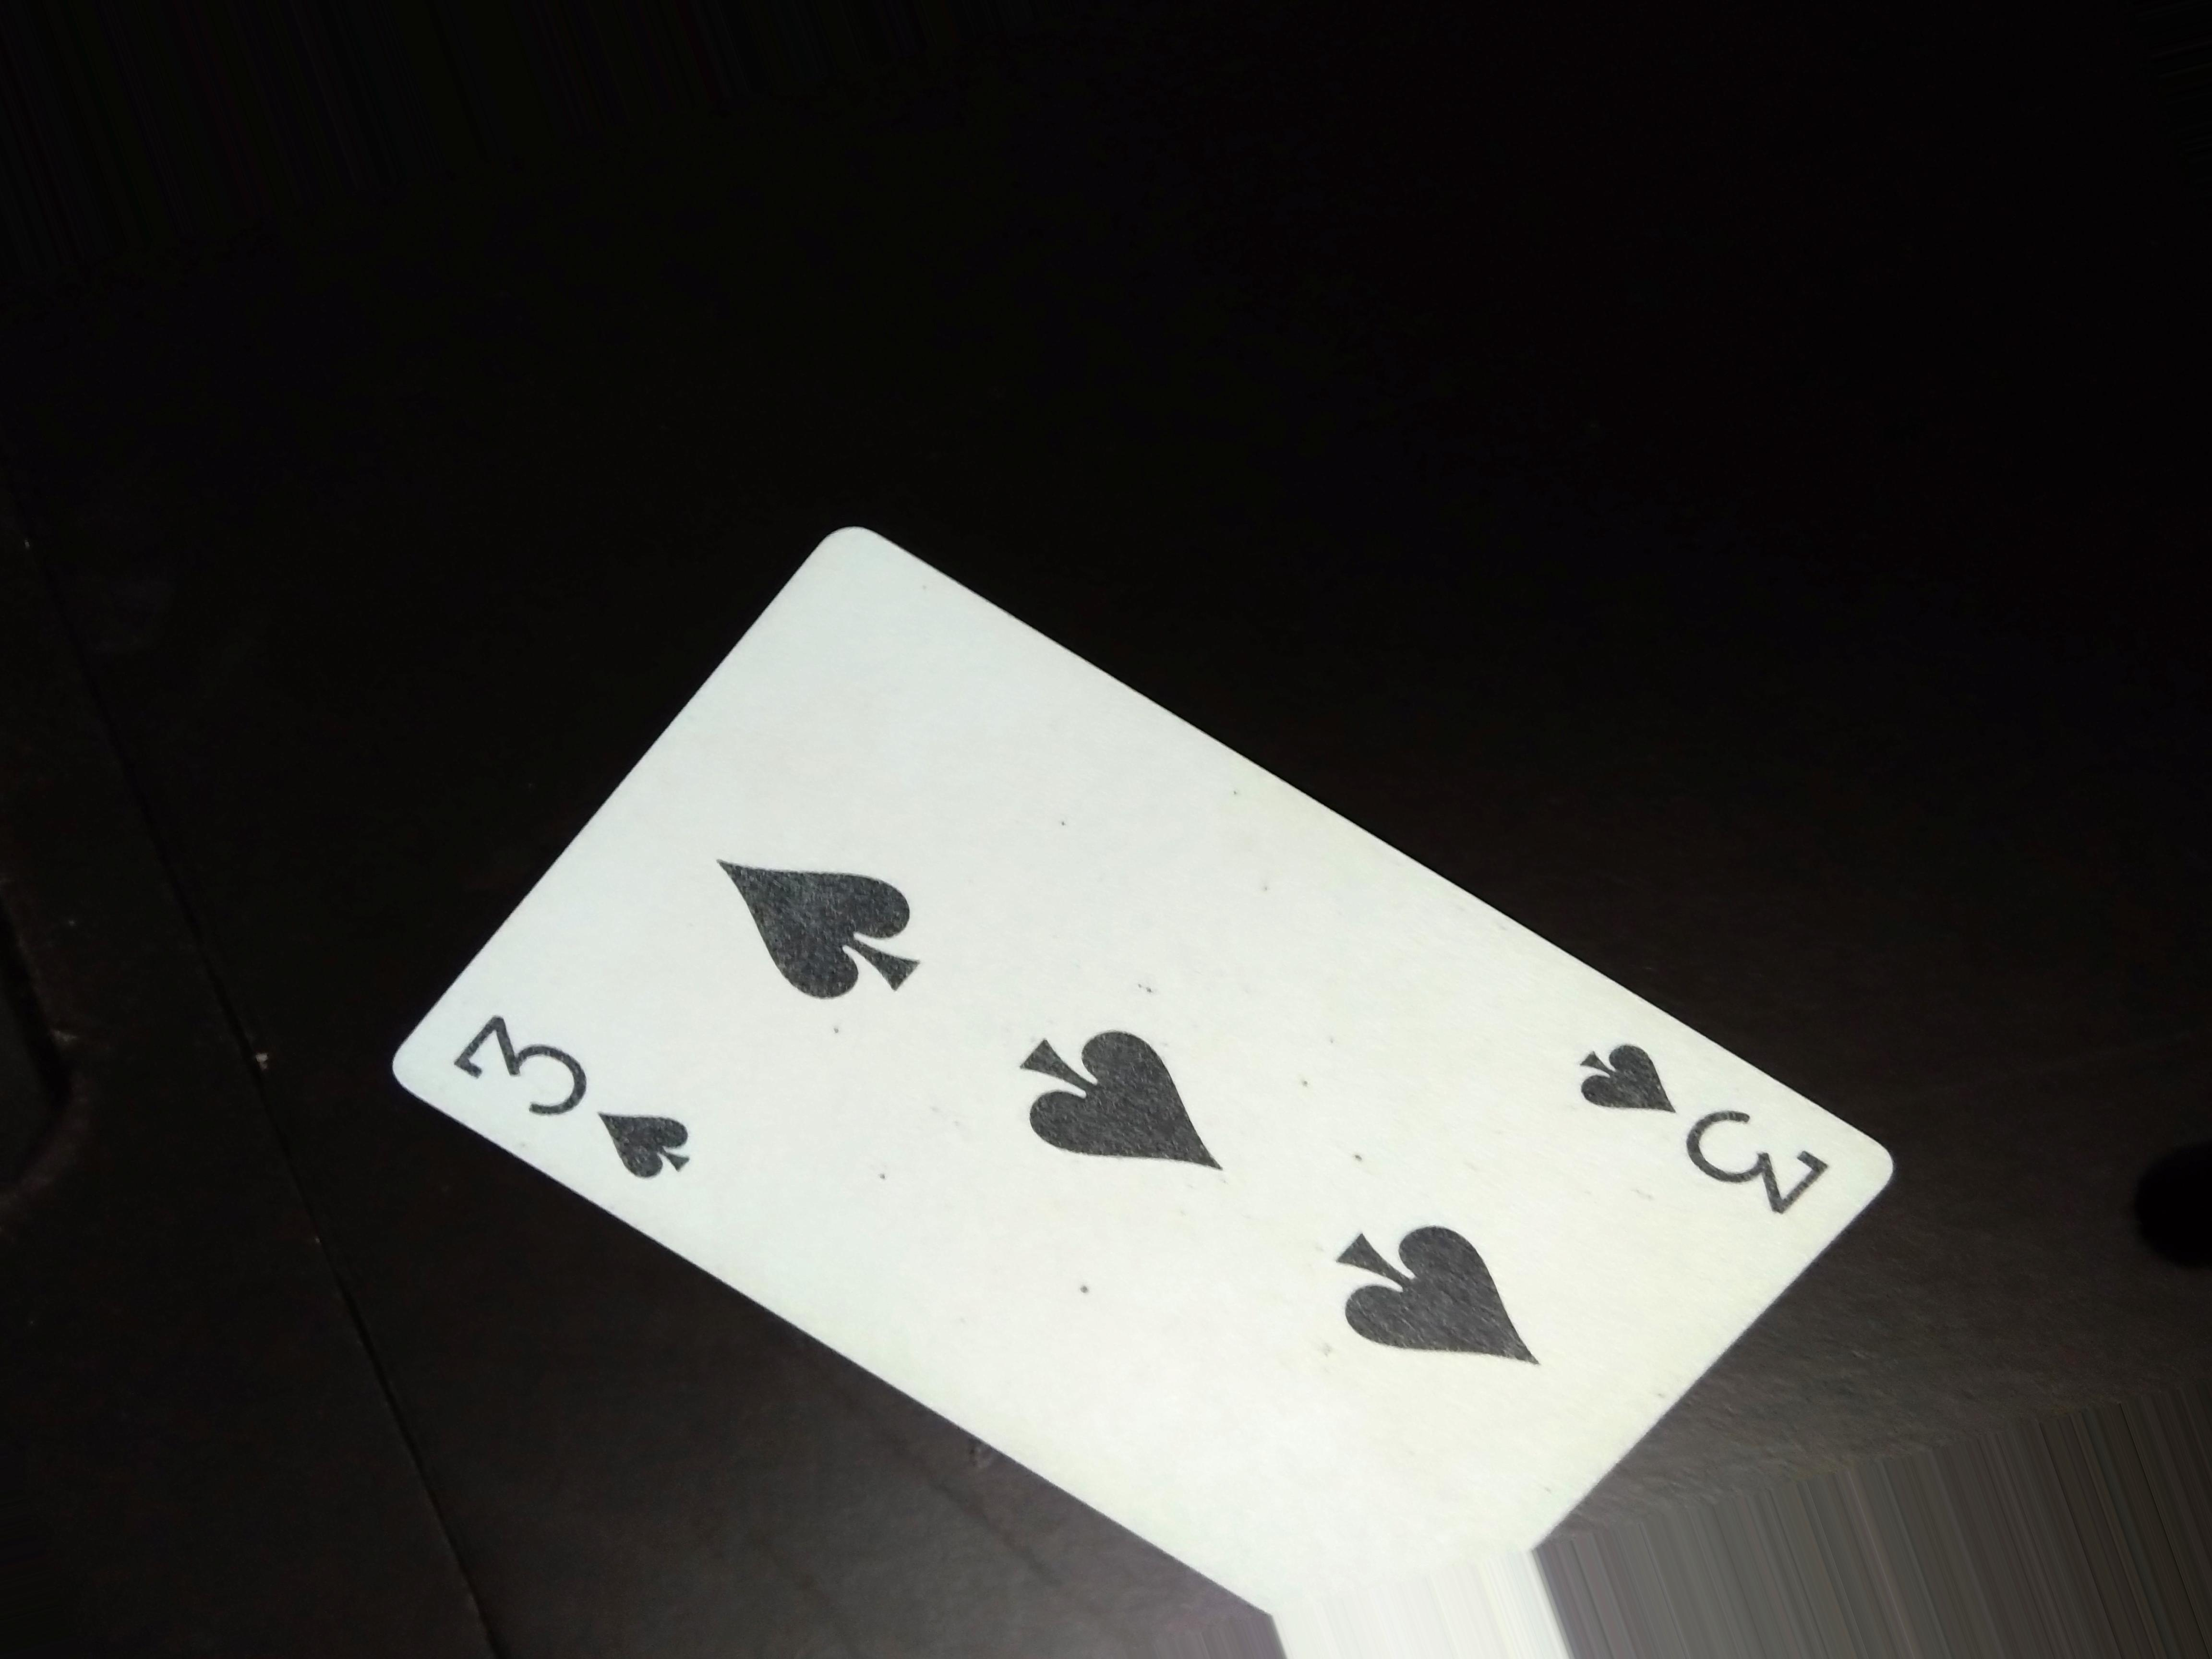3S: (446, 1014, 691, 1188)
